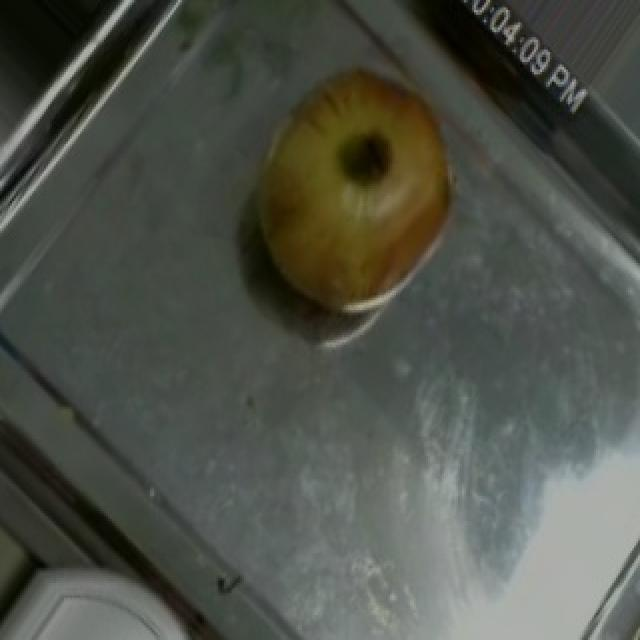fruit: (228, 37, 494, 310)
